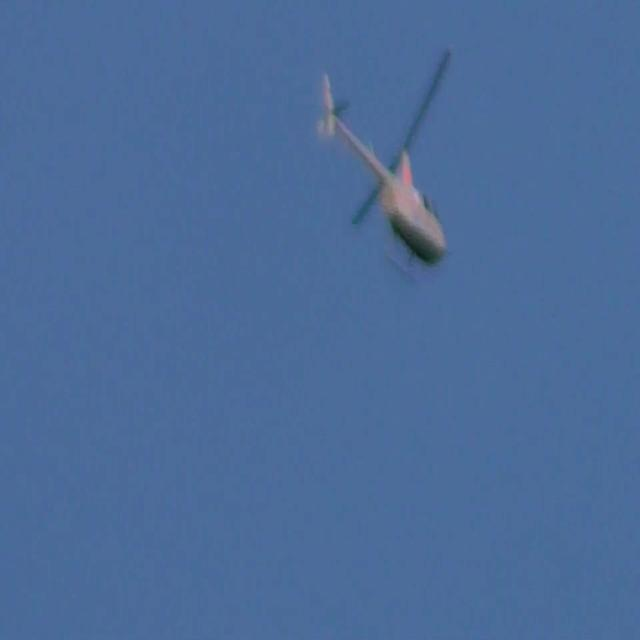CIV_HELO: (318, 73, 452, 286)
